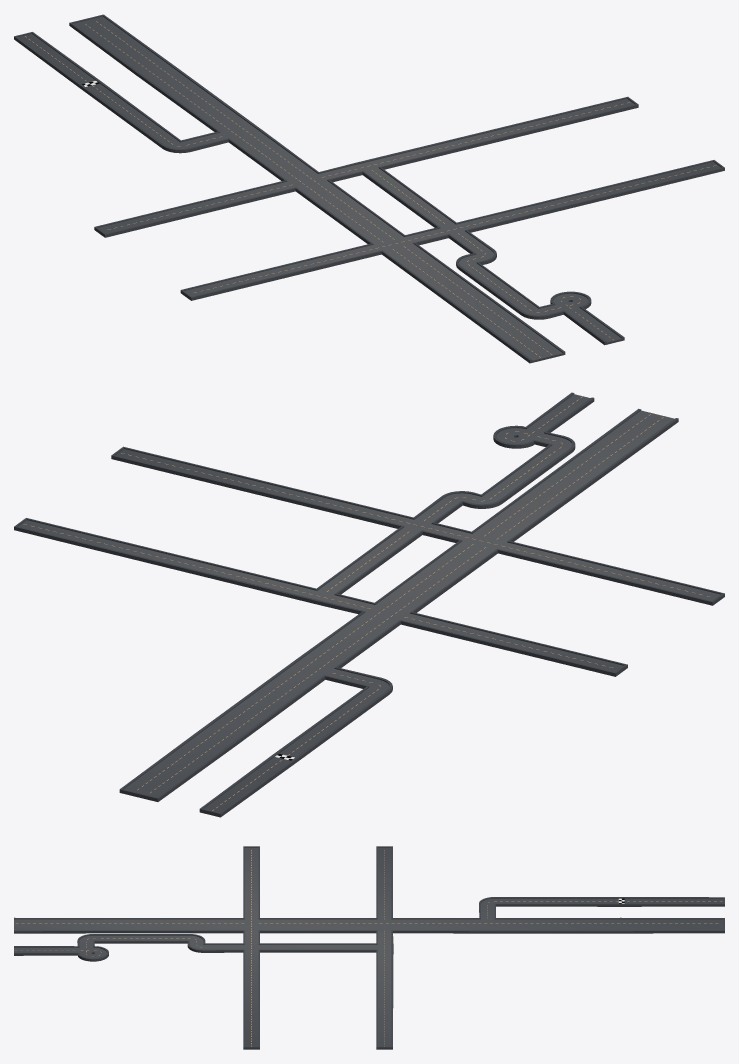
File: Path9.fbx
3 renders of one model, top to bottom at view 1: azimuth 30°, elevation 25°; view 2: azimuth 150°, elevation 25°; view 3: azimuth 270°, elevation 25°, orthographic. The views are drawn at different scales.
Parts seen in each view (by area): view 1: Plane.008; view 2: Plane.008; view 3: Plane.008.
Part boxes in pixels (x1,y1,x2,y2): Plane.008: [14, 14, 724, 363]; Plane.008: [14, 392, 724, 817]; Plane.008: [14, 846, 724, 1049].
Bounding box in the file's own units: 10364 × 57.31 × 15507.
